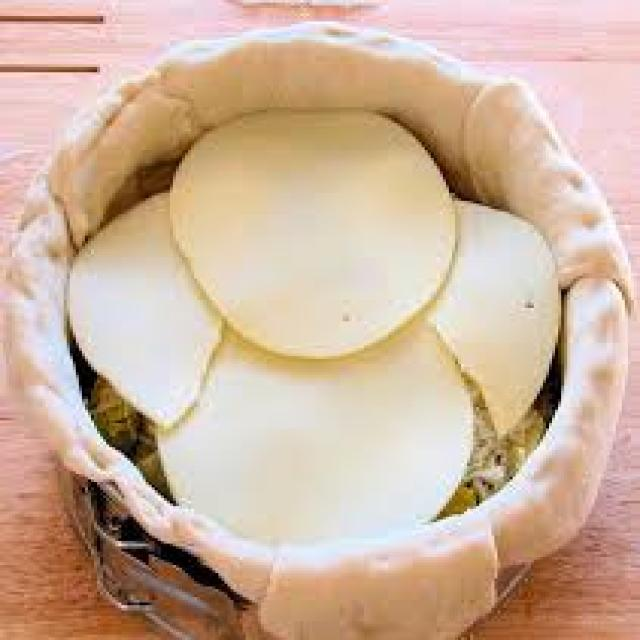cheese: (70, 108, 564, 521)
